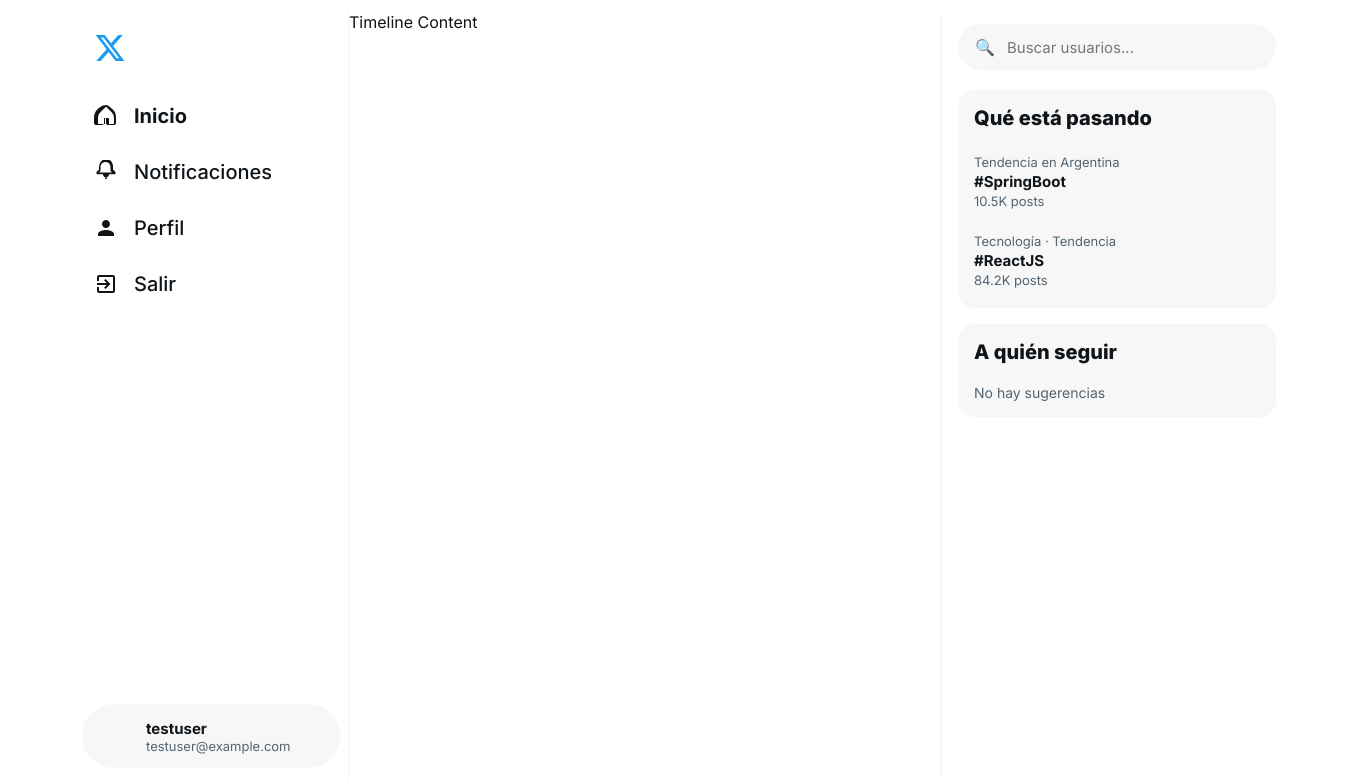
Test: Search and Modals Integration Tests › Search Bar in Layout › allows following a user from search results
In the field with test id "search-input": (1133, 47) [1007, 38, 1259, 56], type "search"
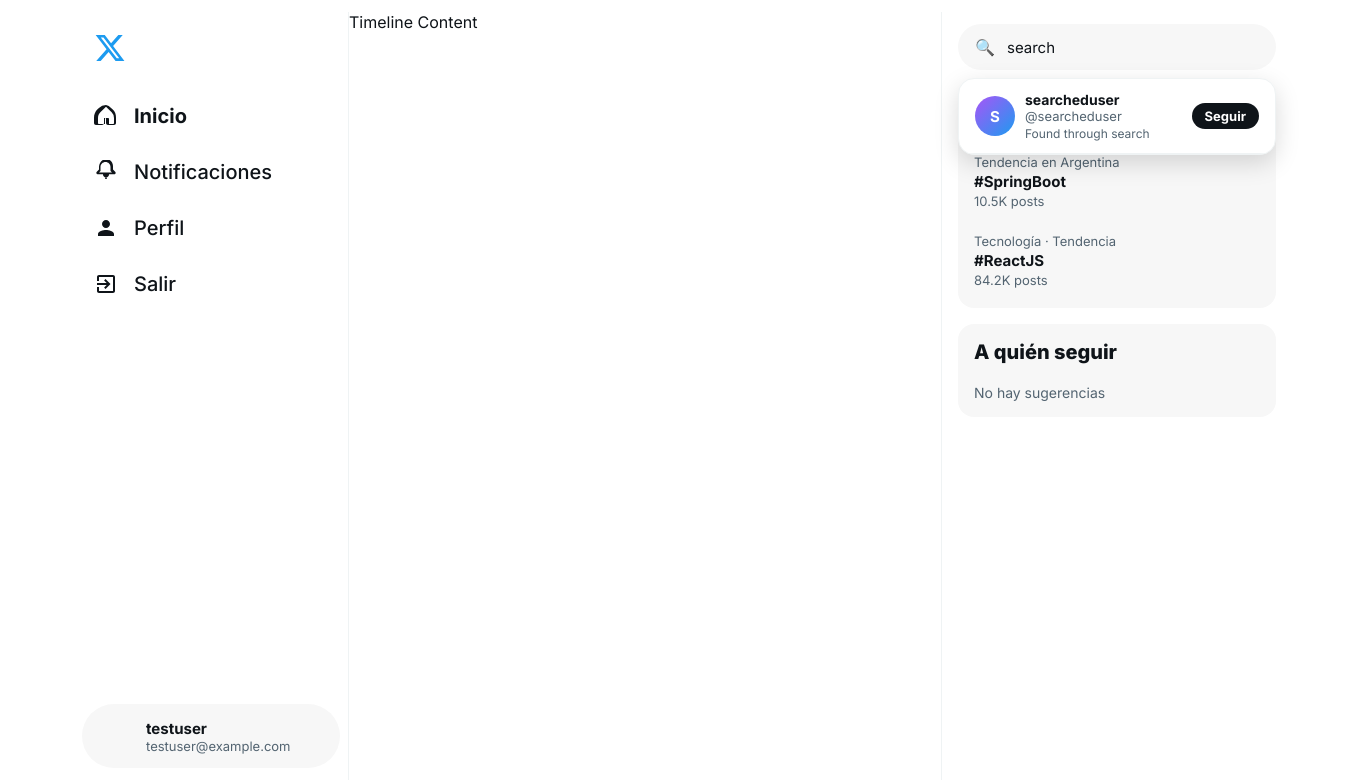
Now the button with test id "search-follow-btn-user-789" reads "Seguir"
// Click follow
Click the button with test id "search-follow-btn-user-789": (1225, 116) [1192, 103, 1259, 129]
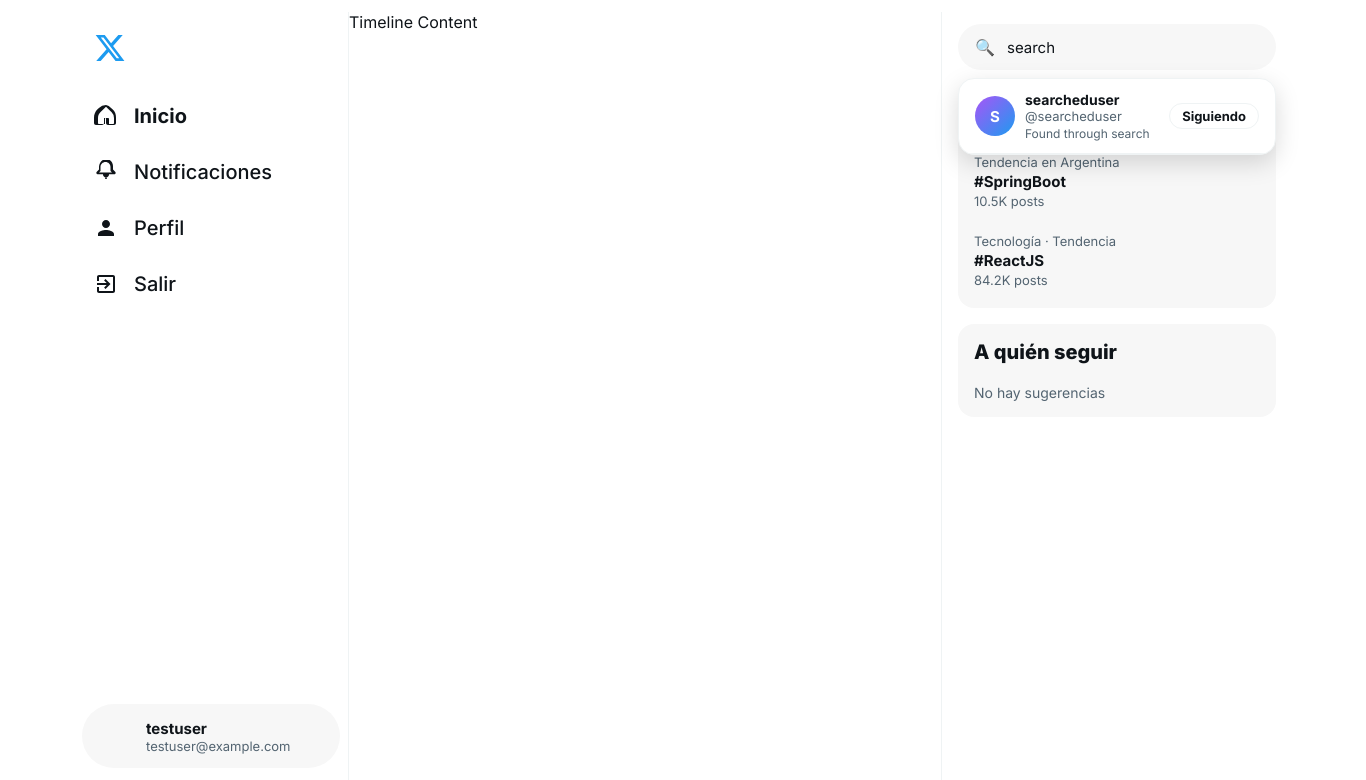
Now the button with test id "search-follow-btn-user-789" reads "Siguiendo", box [1169, 103, 1259, 129]
